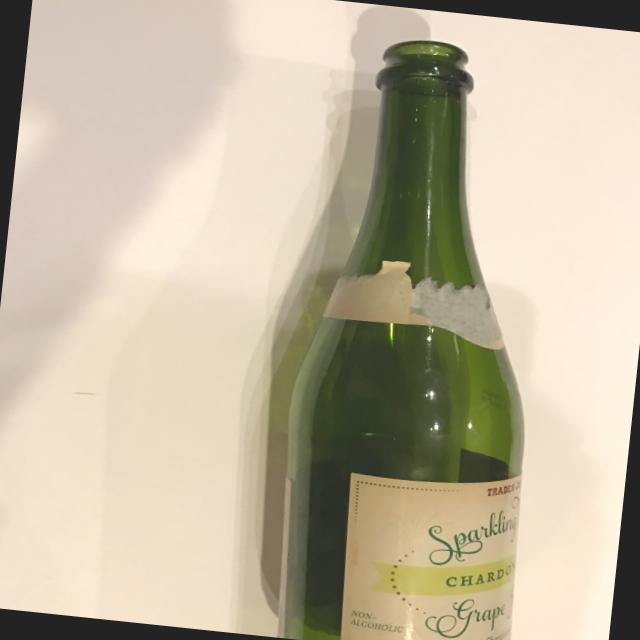Glass: (252, 18, 591, 640)
